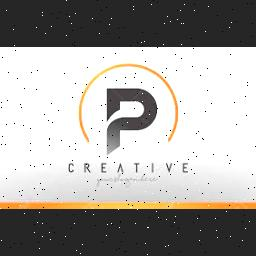p: (102, 85, 160, 157)
